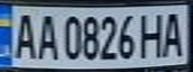0: (60, 11, 81, 61)
2: (100, 11, 121, 61)
6: (115, 11, 139, 61)
8: (78, 11, 103, 61)
A: (157, 8, 190, 57), (9, 9, 39, 61), (33, 10, 60, 61)
H: (136, 10, 166, 60)
